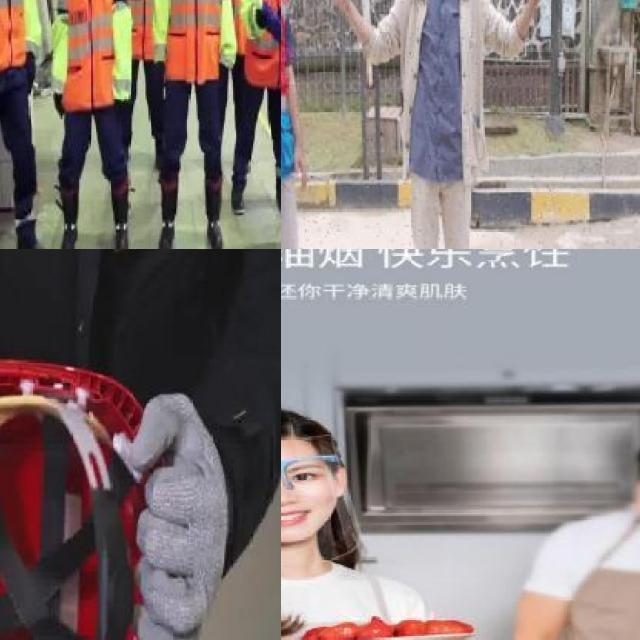apron: (129, 390, 231, 640), (26, 48, 36, 94), (112, 96, 130, 120), (152, 57, 166, 85), (52, 94, 65, 118)
